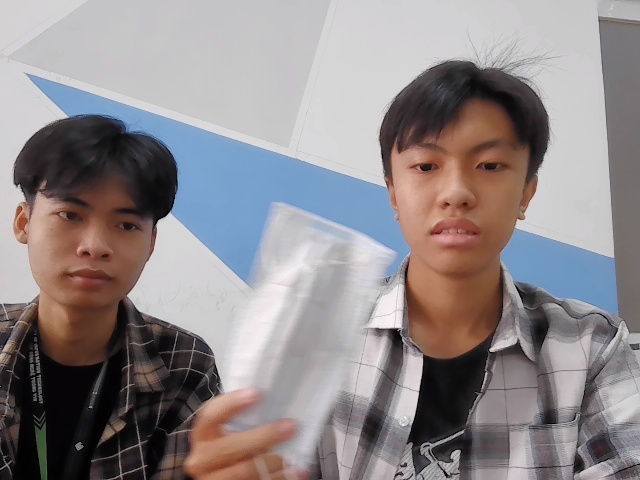human: (380, 58, 549, 269), (12, 117, 184, 308)
mask: (219, 195, 392, 461)
